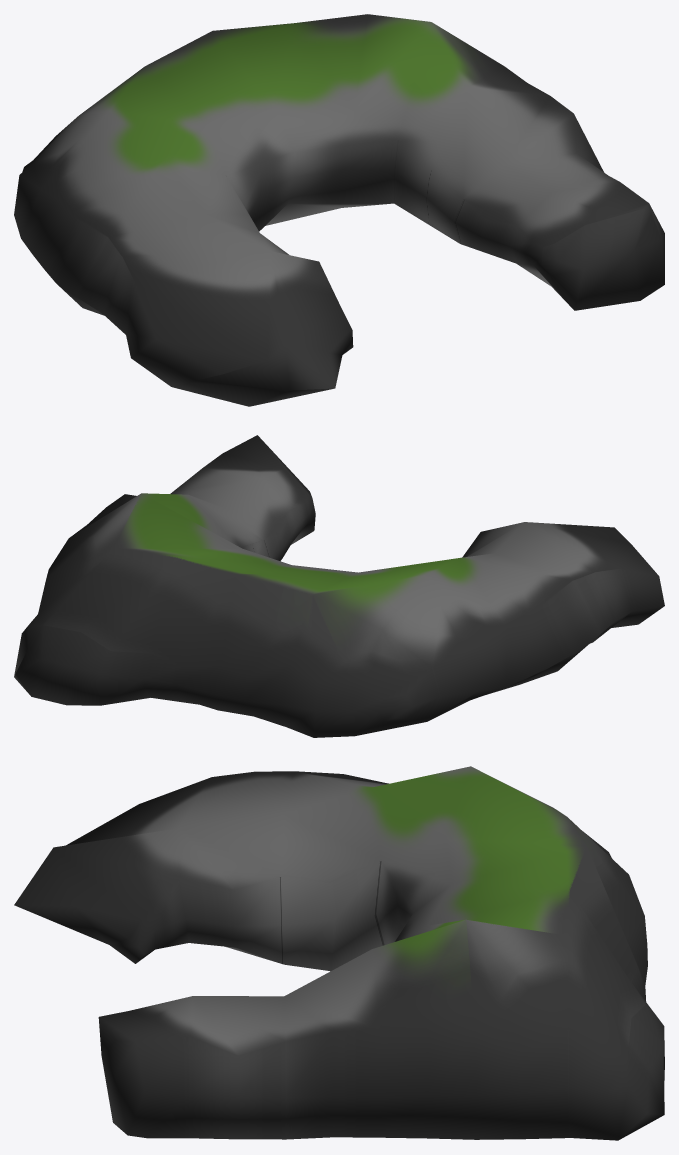
File: cove.fbx
3 renders of one model, top to bottom at view 1: azimuth 30°, elevation 25°; view 2: azimuth 150°, elevation 25°; view 3: azimuth 270°, elevation 25°, orthographic. The views are drawn at different scales.
Parts seen in each view (by area): view 1: Plane; view 2: Plane; view 3: Plane.
Boxes of the visible parts, x1,y1,x2,y2 form: Plane: [14, 14, 664, 406]; Plane: [14, 435, 664, 737]; Plane: [14, 766, 664, 1140].
Size of the model in its own units: 11658 by 3559 by 11444.
